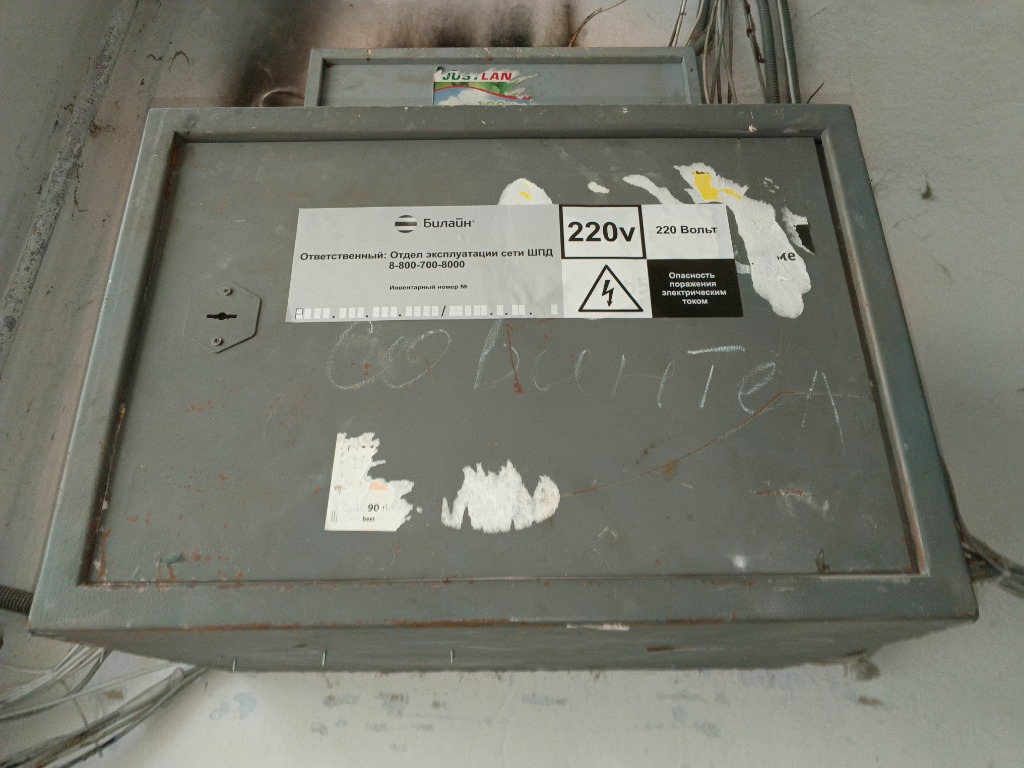e2-6u: (19, 103, 984, 679)
